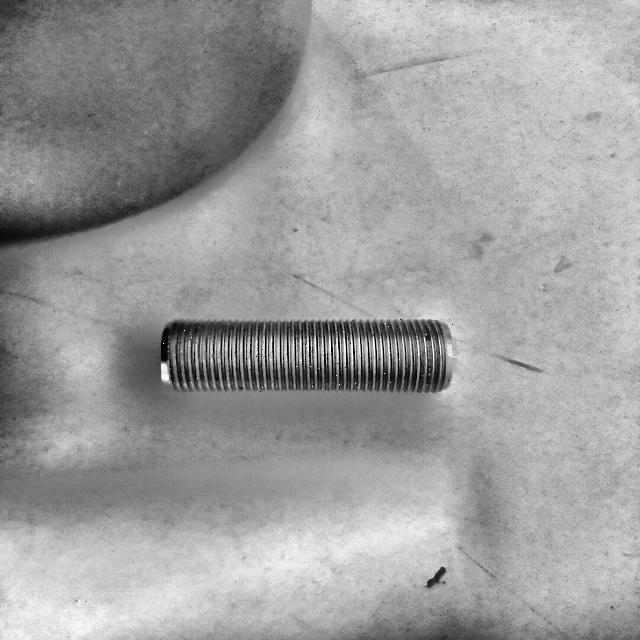Normal: (162, 317, 456, 394)
